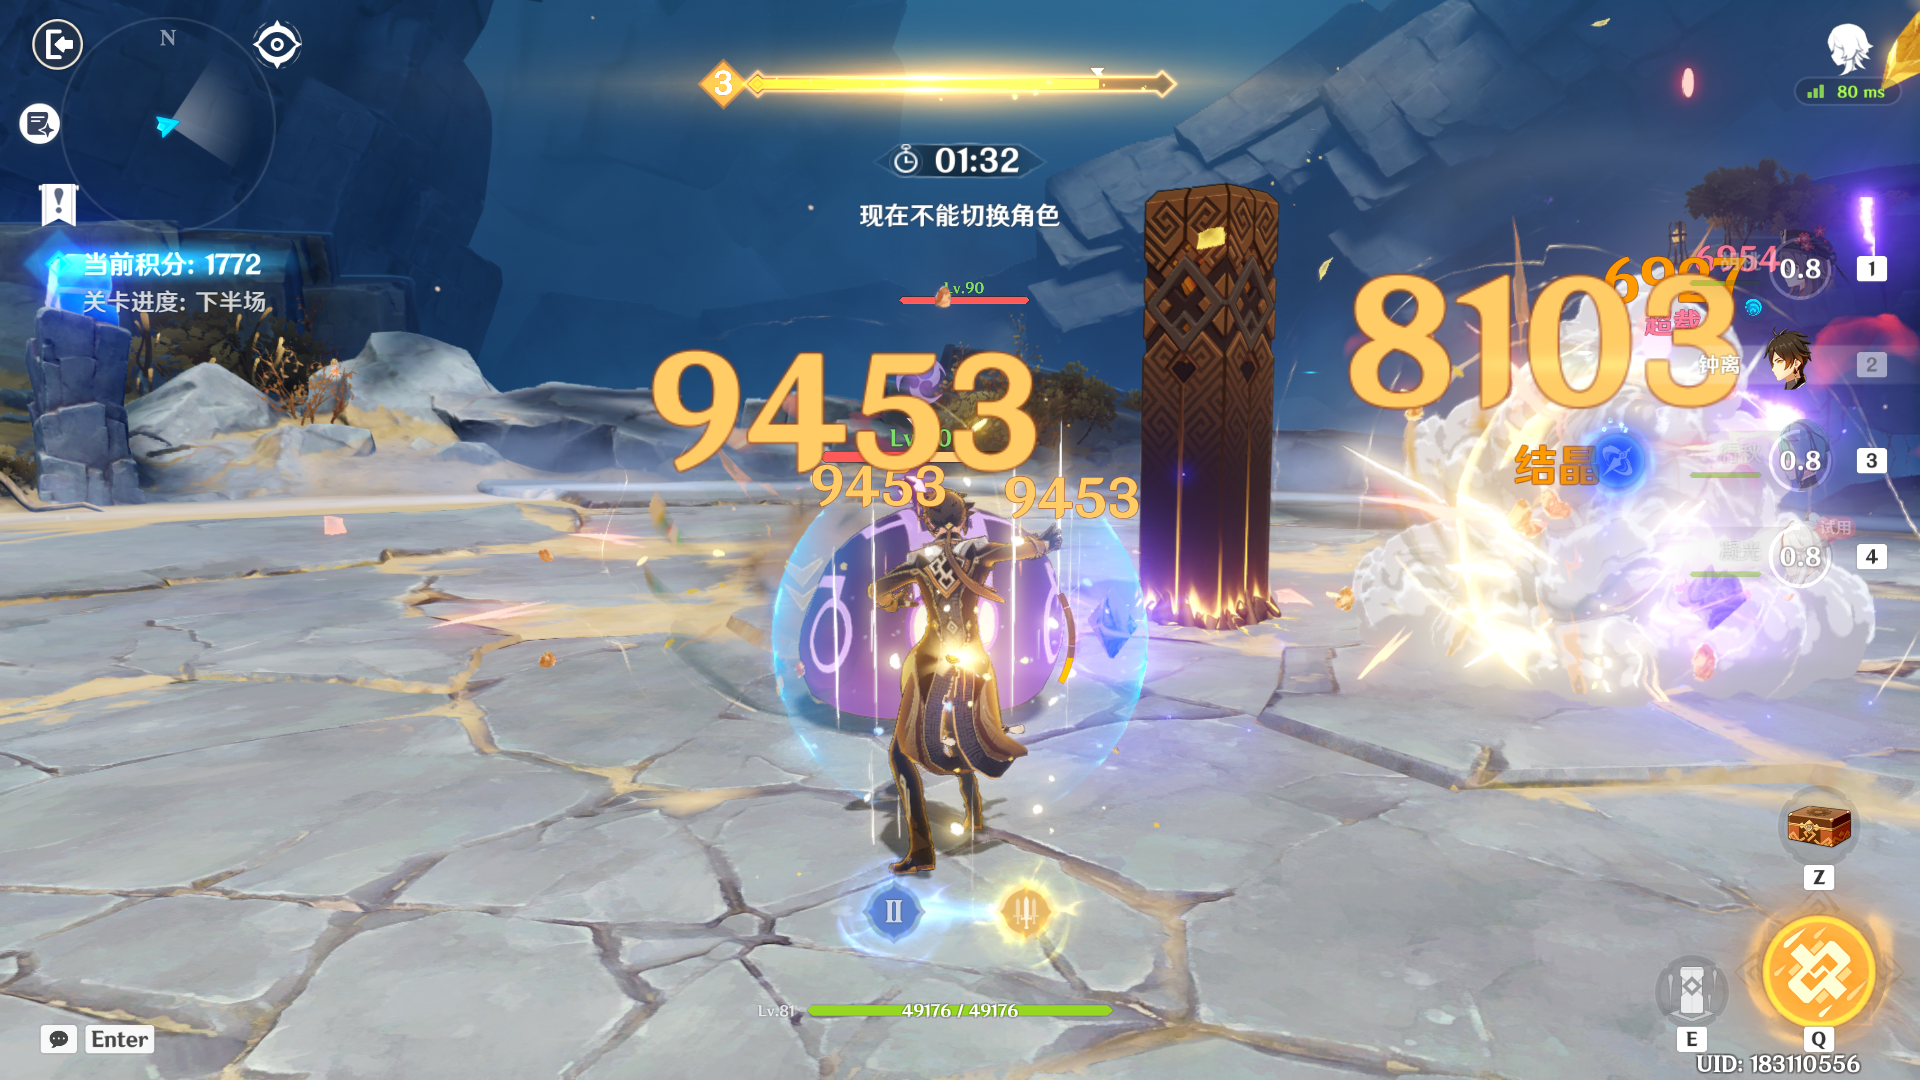character: (837, 467, 1093, 899)
slime: (735, 477, 1095, 760)
